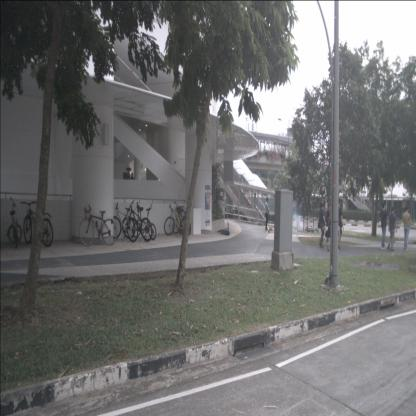human-pedestrian-adult: (380, 203, 391, 250), (335, 198, 344, 249), (387, 207, 397, 251), (402, 205, 411, 251), (318, 201, 326, 248), (266, 198, 271, 230), (130, 172, 134, 190)
vehicle-bicycle: (79, 204, 117, 246), (21, 201, 53, 247), (164, 203, 191, 237), (7, 197, 22, 249), (172, 202, 192, 237), (218, 220, 230, 236)
